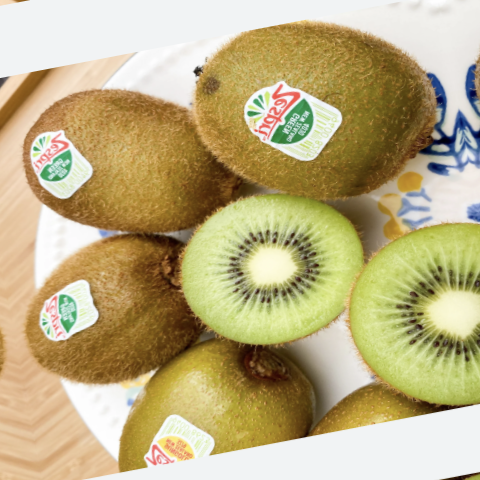kiwi: (159, 0, 453, 249), (0, 64, 260, 259), (2, 211, 224, 414)
